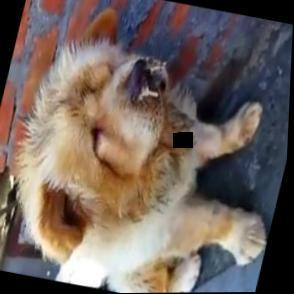nasal_discharge: (129, 52, 173, 103)
